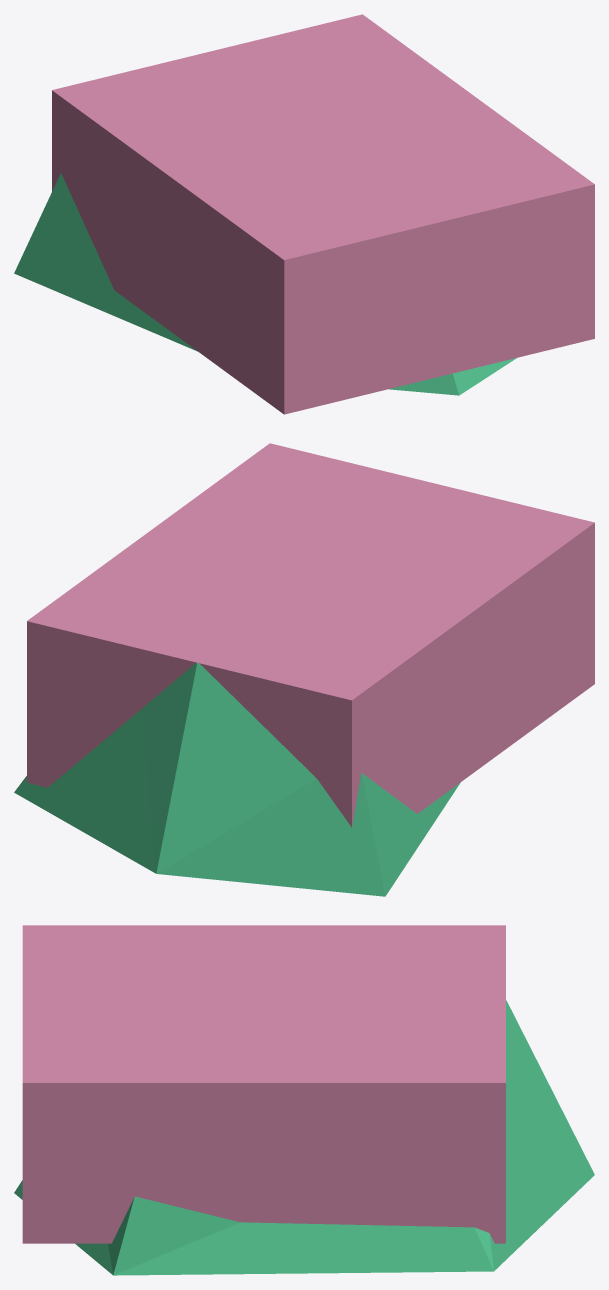
Rendered from rock_01_a_large_a.dae.
3 renders of one model, top to bottom at view 1: azimuth 30°, elevation 25°; view 2: azimuth 150°, elevation 25°; view 3: azimuth 270°, elevation 25°, orthographic. The views are drawn at different scales.
Parts seen in each view (by area): view 1: Untitled, Colmesh-1; view 2: Untitled, Colmesh-1; view 3: Untitled, Colmesh-1.
Part boxes in pixels (box(x1,y1,x2,y2)): Untitled: box(52, 14, 594, 414); Colmesh-1: box(14, 173, 516, 395); Untitled: box(27, 443, 594, 827); Colmesh-1: box(14, 662, 460, 896); Untitled: box(22, 925, 505, 1243); Colmesh-1: box(14, 1000, 594, 1275).
Size of the model in its own units: 1.49 by 1.96 by 0.6844.
